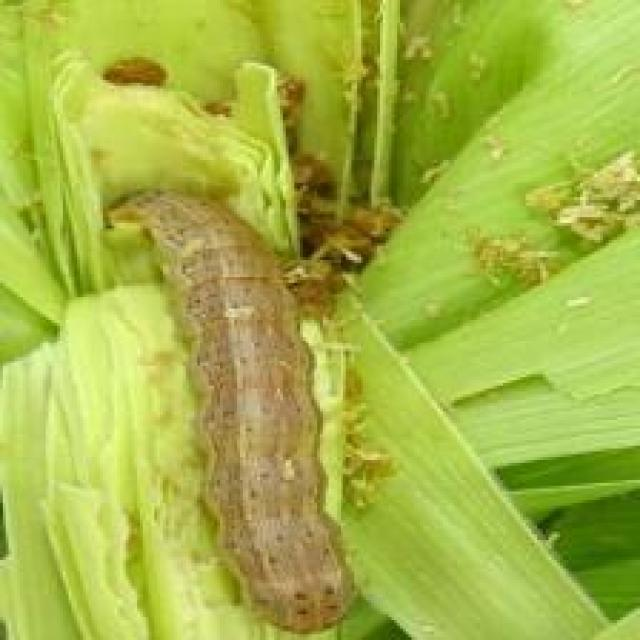Plaga: (92, 112, 381, 640)
